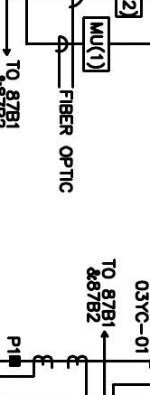MU: (82, 16, 111, 73)
